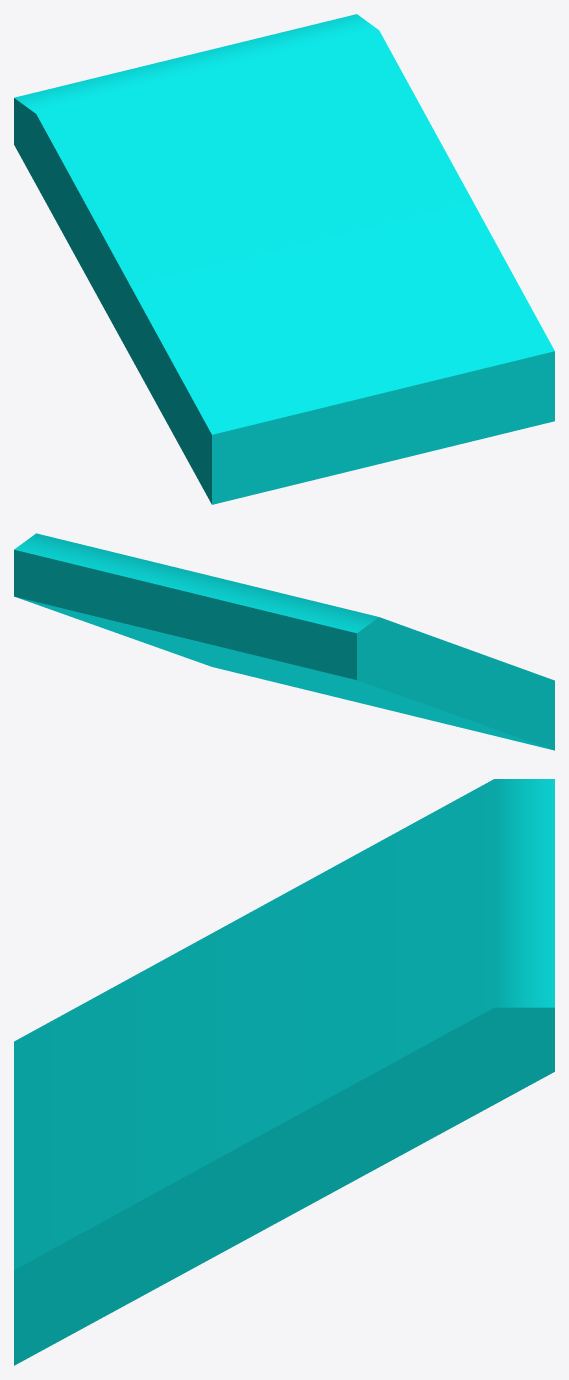
File: SM_Bld_Stairs_03_Collision.fbx
3 renders of one model, top to bottom at view 1: azimuth 30°, elevation 25°; view 2: azimuth 150°, elevation 25°; view 3: azimuth 270°, elevation 25°, orthographic. The views are drawn at different scales.
Parts seen in each view (by area): view 1: SM_Bld_Stairs_03_Collision; view 2: SM_Bld_Stairs_03_Collision; view 3: SM_Bld_Stairs_03_Collision.
Part boxes in pixels (x1=…): SM_Bld_Stairs_03_Collision: x1=14, y1=14, x2=554, y2=504; SM_Bld_Stairs_03_Collision: x1=14, y1=533, x2=554, y2=750; SM_Bld_Stairs_03_Collision: x1=14, y1=779, x2=554, y2=1365.
Size of the model in its own units: 250 by 183 by 250.
